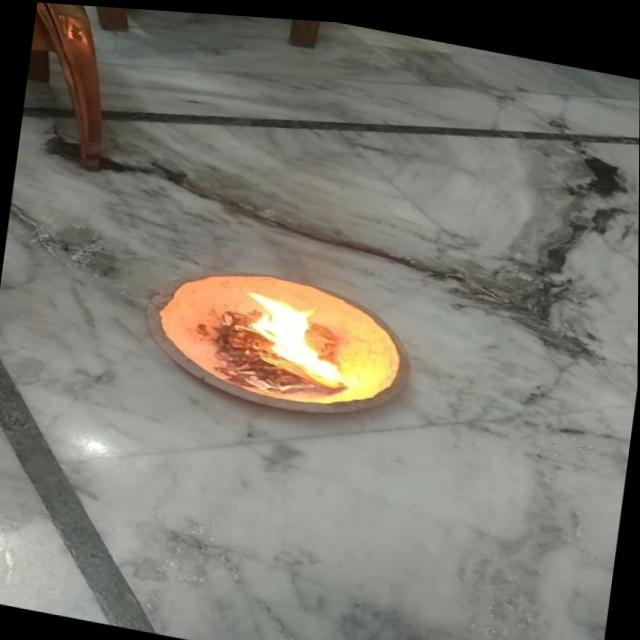fire: (233, 278, 352, 386)
